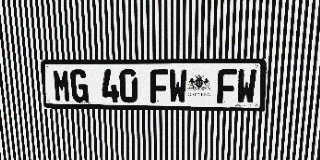0: (119, 69, 138, 103)
4: (101, 69, 120, 103)
F: (217, 69, 237, 104), (150, 69, 168, 103)
G: (70, 69, 89, 102)
M: (52, 69, 71, 102)
W: (236, 69, 257, 104), (169, 69, 187, 103)
